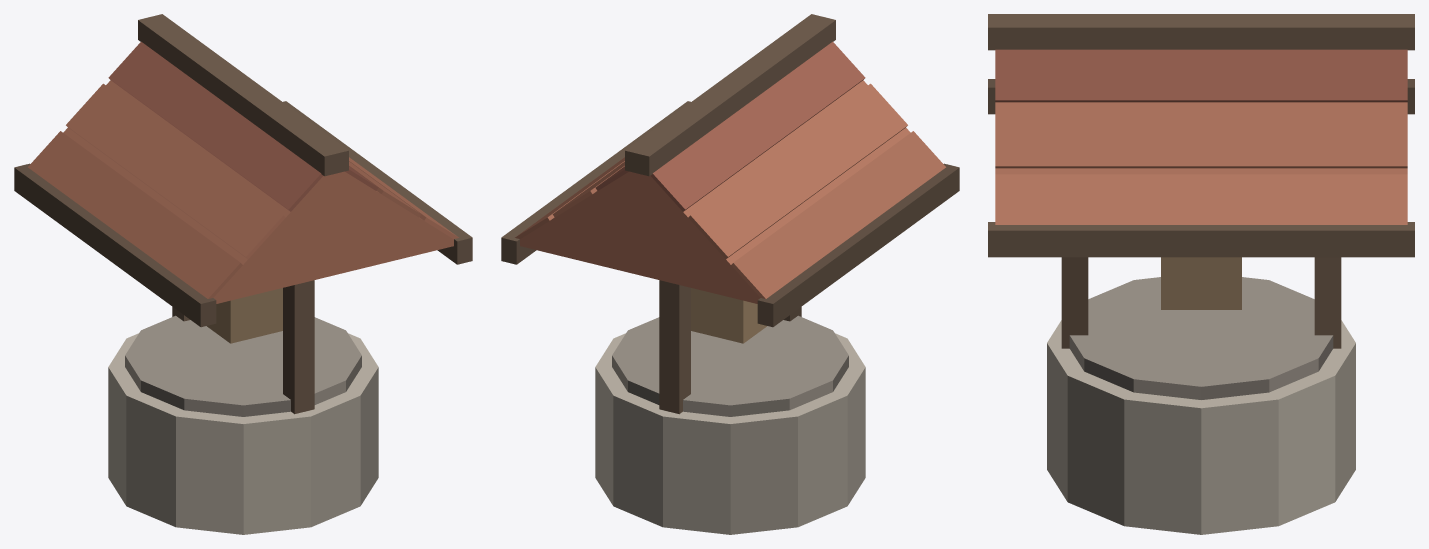
The model's file is SM_Kit_poco.fbx.
The picture shows the model from 3 angles, left to right: view 1: azimuth 30°, elevation 25°; view 2: azimuth 150°, elevation 25°; view 3: azimuth 270°, elevation 25°; orthographic projection. The views are drawn at different scales.
Visible parts, largest first — view 1: SM_Kit_poco; view 2: SM_Kit_poco; view 3: SM_Kit_poco.
Part boxes in pixels (bbox=[...]): SM_Kit_poco: bbox=[14, 14, 472, 534]; SM_Kit_poco: bbox=[501, 14, 959, 534]; SM_Kit_poco: bbox=[988, 14, 1414, 534].
Size of what is drawn, in the model's own units: 244 by 337 by 290.
